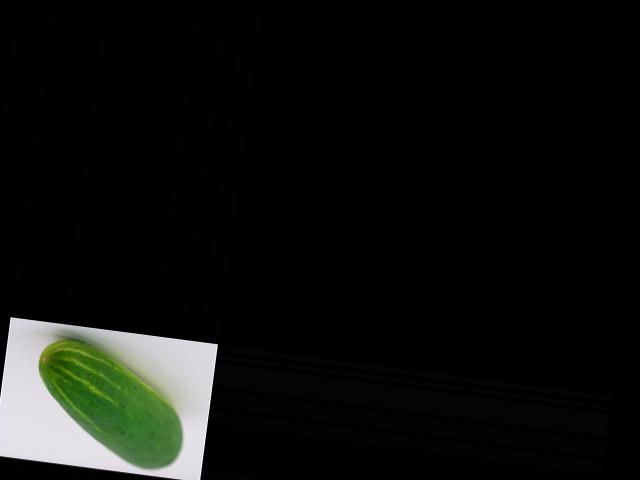cucumber: (27, 336, 194, 472)
